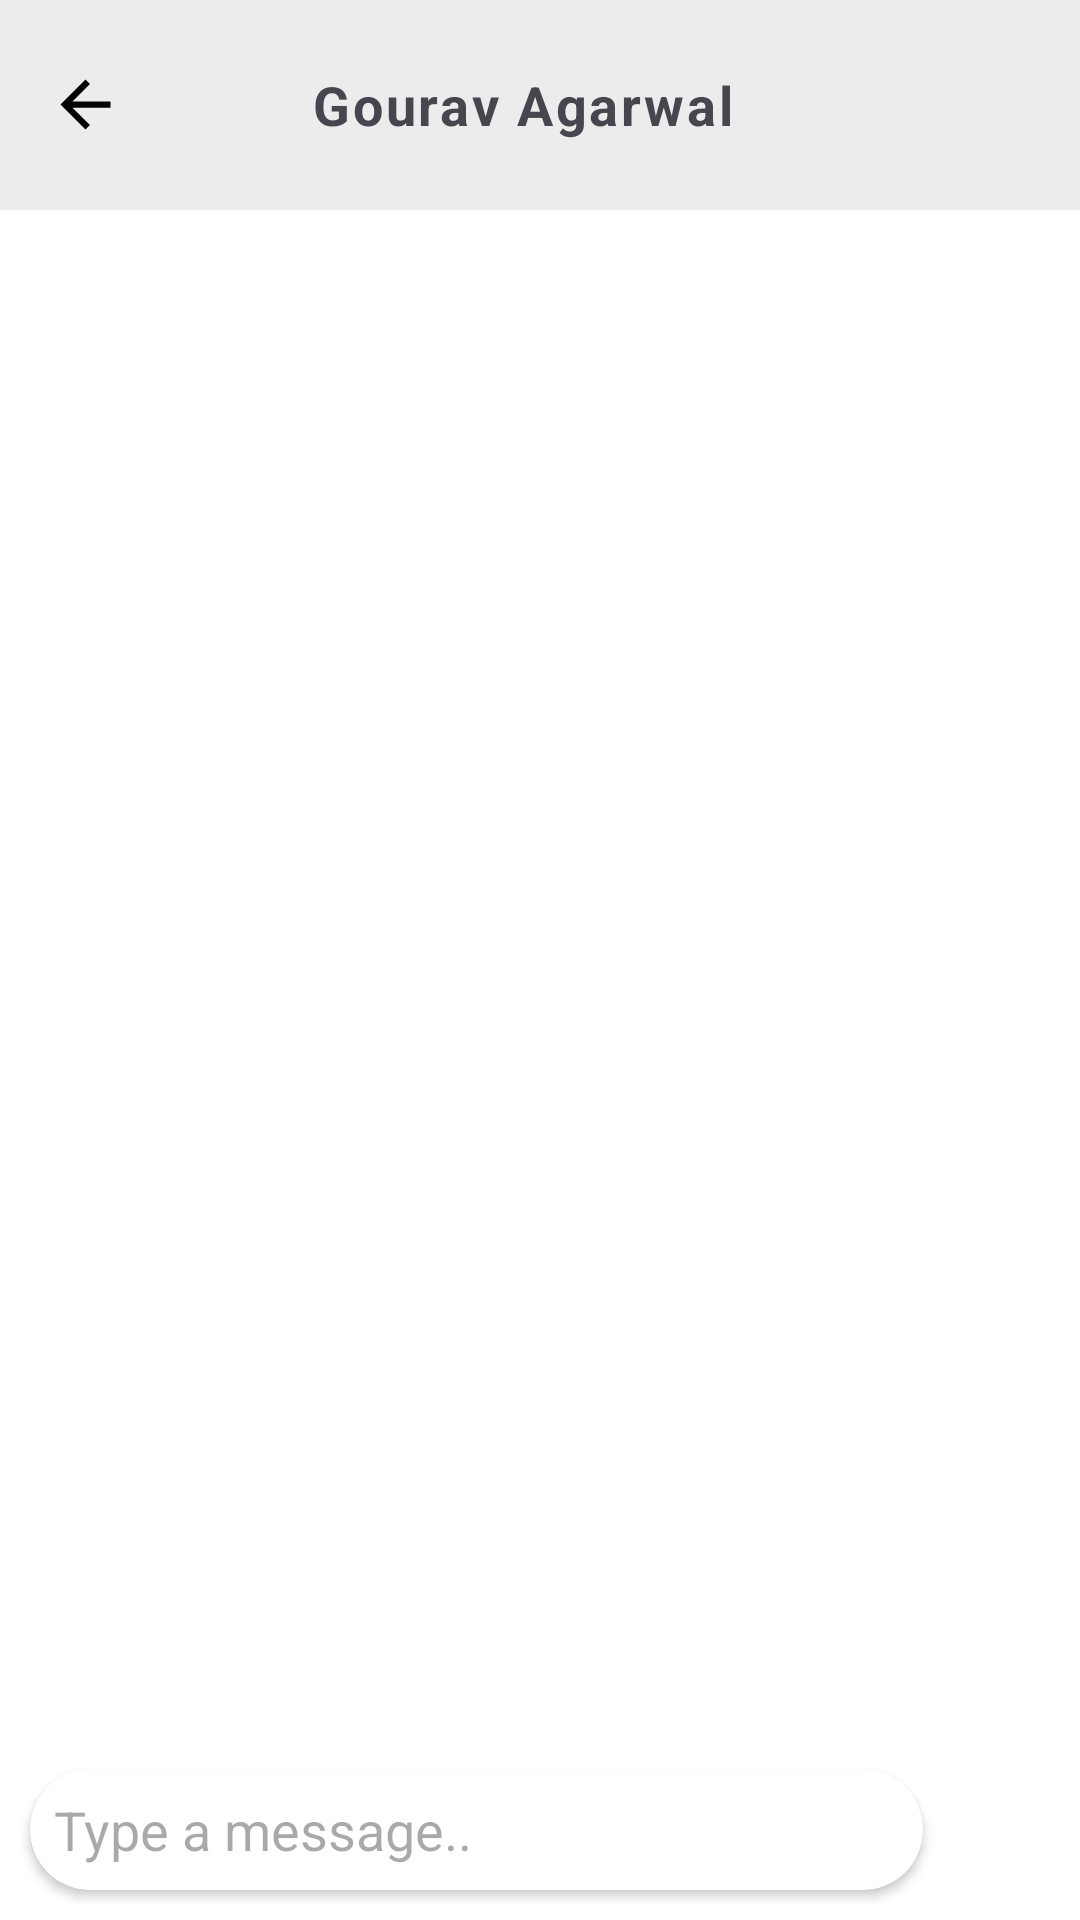

Screen size 1080*1920. Icon name, then its box in pixels as bbox=[x1, y1, x2, y2]:
arrow back: bbox=[60, 79, 111, 130]
